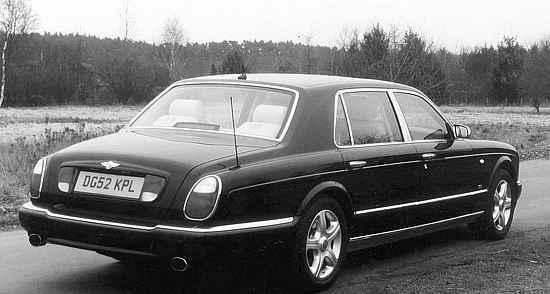car: (17, 70, 527, 294)
